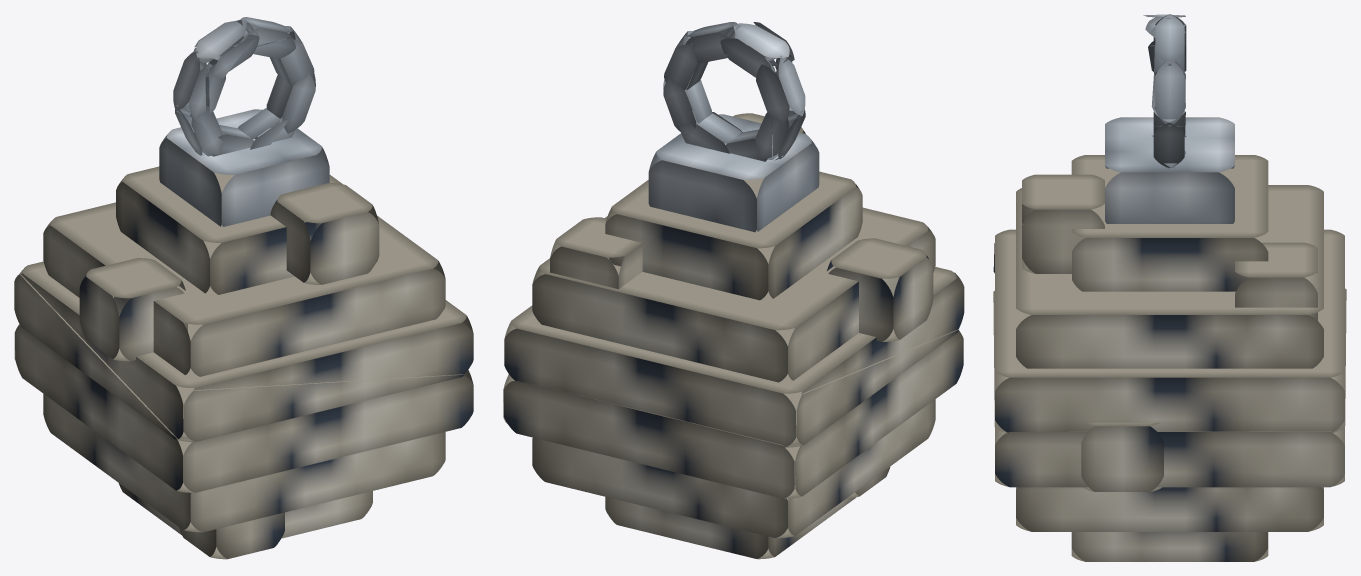
Rendered from snow_hares_tail.obj.
3 views of the same model, side by side, from view 1: azimuth 30°, elevation 25°; view 2: azimuth 150°, elevation 25°; view 3: azimuth 270°, elevation 25° (orthographic). The views are drawn at different scales.
Parts seen in each view (by area): view 1: lit; view 2: lit; view 3: lit.
Part boxes in pixels (bbox=[...]): lit: bbox=[14, 17, 473, 559]; lit: bbox=[503, 22, 964, 559]; lit: bbox=[993, 14, 1346, 561].
Bounding box in the file's own units: 0.4 × 0.5874 × 0.373.
